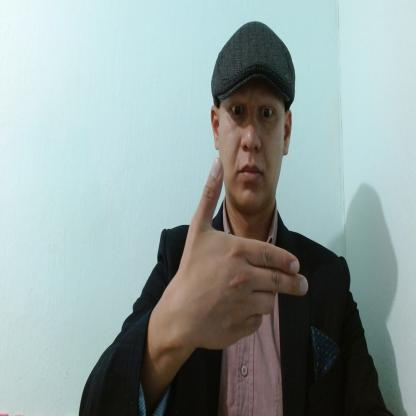H: (180, 158, 309, 350)
